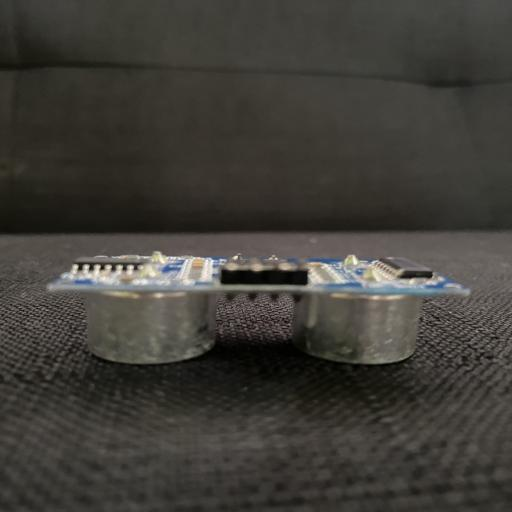Ultrasonic Sensor: (44, 248, 472, 366)
